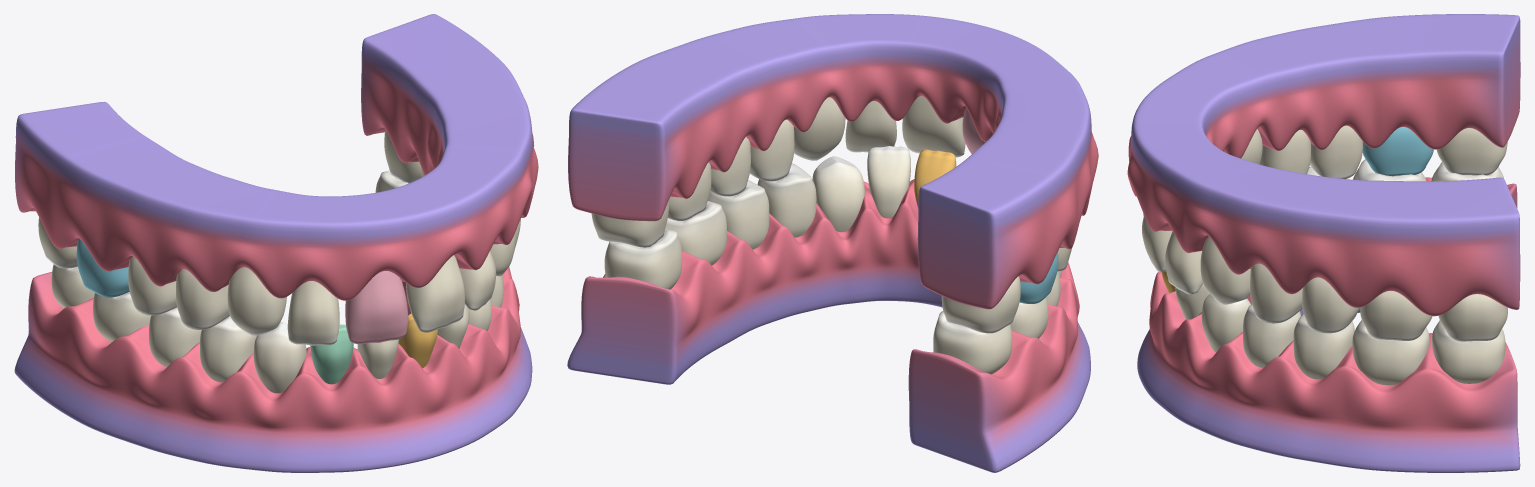
Rendered from dental_arch.glb.
3 views of the same model, side by side, from view 1: azimuth 30°, elevation 25°; view 2: azimuth 150°, elevation 25°; view 3: azimuth 270°, elevation 25° (orthographic). The views are drawn at different scales.
Parts seen in each view (by area): view 1: U_Gum_and_Lavender_Base, L_Gum_and_Lavender_Base, U_R_1_central, U_L_1_central, U_R_2_lateral, U_R_3_canine, L_R_3_canine, L_R_4_premolar1, U_R_4_premolar1, L_R_5_premolar2, L_R_6_molar1, U_R_5_premolar2 (+10 smaller); view 2: U_Gum_and_Lavender_Base, L_Gum_and_Lavender_Base, L_L_7_molar2, L_R_7_molar2, L_L_3_canine, L_L_4_premolar1, L_L_2_lateral, U_L_1_central, L_L_5_premolar2, L_L_6_molar1, U_R_7_molar2, U_L_3_canine (+8 smaller); view 3: U_Gum_and_Lavender_Base, L_Gum_and_Lavender_Base, L_L_6_molar1, L_L_7_molar2, U_L_6_molar1, L_L_5_premolar2, U_L_7_molar2, U_R_6_molar1, U_R_7_molar2, U_L_5_premolar2, L_L_4_premolar1, U_L_4_premolar1 (+10 smaller).
Boxes of the visible parts, bbox=[...] form: U_Gum_and_Lavender_Base: bbox=[15, 14, 538, 300]; L_Gum_and_Lavender_Base: bbox=[14, 266, 532, 472]; U_R_1_central: bbox=[345, 271, 408, 344]; U_L_1_central: bbox=[406, 255, 464, 332]; U_R_2_lateral: bbox=[287, 281, 339, 345]; U_R_3_canine: bbox=[227, 267, 286, 335]; L_R_3_canine: bbox=[253, 322, 306, 393]; L_R_4_premolar1: bbox=[200, 316, 257, 382]; U_R_4_premolar1: bbox=[176, 269, 229, 329]; L_R_5_premolar2: bbox=[149, 307, 201, 366]; L_R_6_molar1: bbox=[93, 292, 150, 342]; U_R_5_premolar2: bbox=[128, 256, 176, 315]; U_Gum_and_Lavender_Base: bbox=[568, 14, 1098, 309]; L_Gum_and_Lavender_Base: bbox=[567, 179, 1090, 472]; L_L_7_molar2: bbox=[604, 229, 682, 289]; L_R_7_molar2: bbox=[933, 311, 1012, 374]; L_L_3_canine: bbox=[812, 156, 864, 231]; L_L_4_premolar1: bbox=[757, 163, 816, 237]; L_L_2_lateral: bbox=[867, 146, 910, 217]; U_L_1_central: bbox=[902, 96, 965, 157]; L_L_5_premolar2: bbox=[708, 180, 769, 249]; L_L_6_molar1: bbox=[665, 201, 726, 265]; U_R_7_molar2: bbox=[941, 276, 1020, 333]; U_L_3_canine: bbox=[794, 97, 845, 160]; U_Gum_and_Lavender_Base: bbox=[1127, 14, 1520, 316]; L_Gum_and_Lavender_Base: bbox=[1137, 177, 1520, 472]; L_L_6_molar1: bbox=[1352, 320, 1429, 385]; L_L_7_molar2: bbox=[1432, 320, 1505, 383]; U_L_6_molar1: bbox=[1360, 291, 1432, 340]; L_L_5_premolar2: bbox=[1293, 314, 1354, 379]; U_L_7_molar2: bbox=[1438, 294, 1507, 341]; U_R_6_molar1: bbox=[1362, 127, 1433, 176]; U_R_7_molar2: bbox=[1437, 128, 1507, 175]; U_L_5_premolar2: bbox=[1302, 277, 1359, 333]; L_L_4_premolar1: bbox=[1243, 304, 1300, 367]; U_L_4_premolar1: bbox=[1250, 263, 1302, 323].
Size of the model in its own units: 7.71 by 4.29 by 6.
6 materials, 2 textured.
